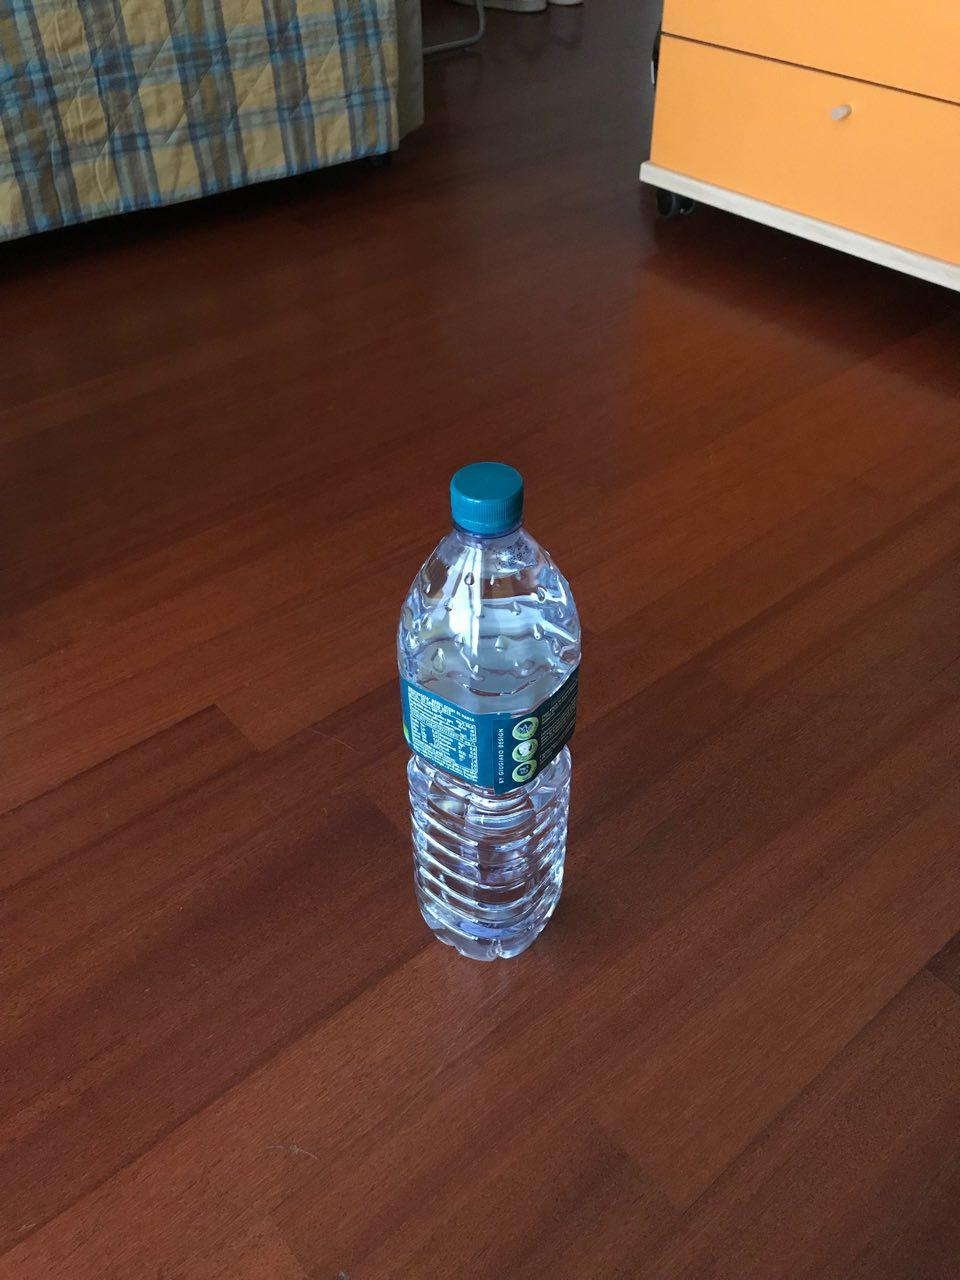san_bernardo: (392, 460, 585, 963)
